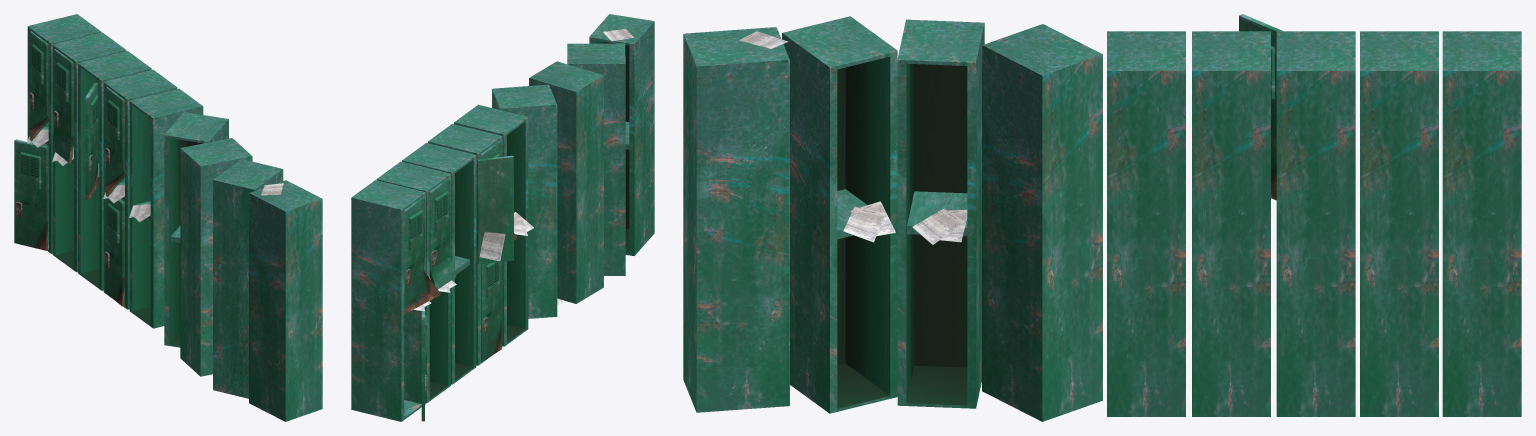
The model's file is Lockers04.fbx.
3 renders of one model, left to right at view 1: azimuth 30°, elevation 25°; view 2: azimuth 150°, elevation 25°; view 3: azimuth 270°, elevation 25°, orthographic. The views are drawn at different scales.
Visible parts, largest first — view 1: Empty_Mesh; view 2: Empty_Mesh; view 3: Empty_Mesh.
Boxes of the visible parts, x1,y1,x2,y2 form: Empty_Mesh: (14, 14, 322, 421); Empty_Mesh: (351, 14, 654, 421); Empty_Mesh: (683, 14, 1521, 421).
Size of the model in its own units: 79.79 by 197 by 425.
